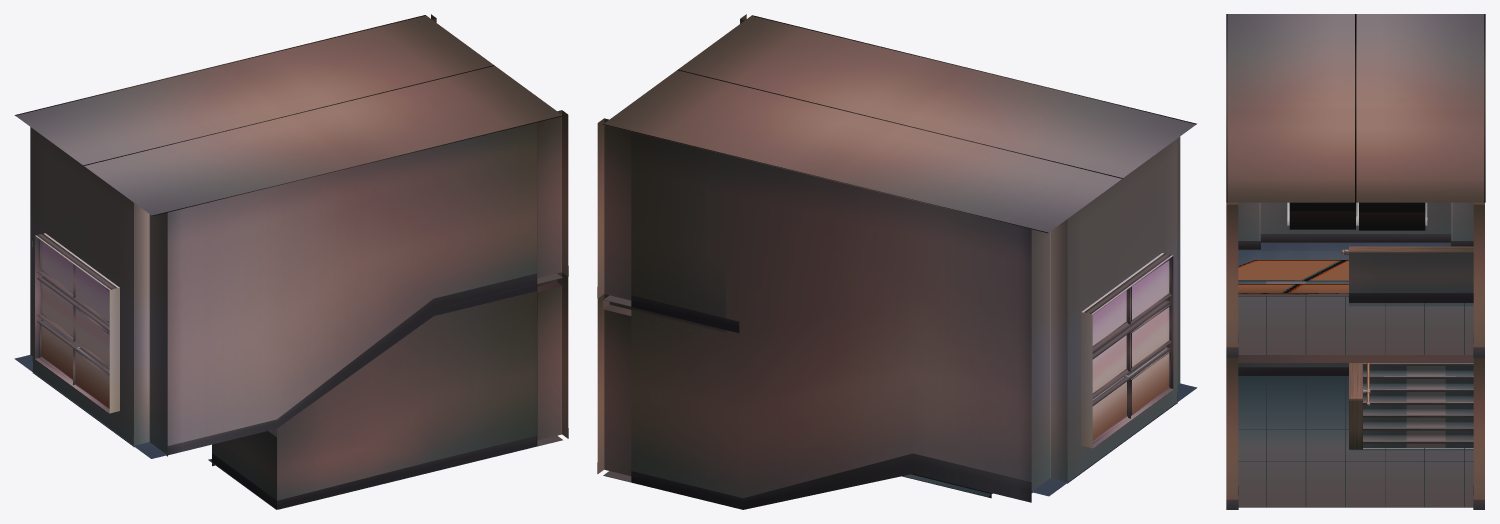
The model's file is JpsStairs_lowfloorB_evening.FBX.
3 views of the same model, side by side, from view 1: azimuth 30°, elevation 25°; view 2: azimuth 150°, elevation 25°; view 3: azimuth 270°, elevation 25° (orthographic). The views are drawn at different scales.
Parts seen in each view (by area): view 1: Sta_LowF_B_wallB_eve, Sta_LowF_B_StairsCeiling_eve, Sta_LowF_B_window_eve, Sta_LowF_B_stairs_eve; view 2: Sta_LowF_B_wallF_eve, Sta_LowF_B_StairsCeiling_eve, Sta_LowF_B_window_eve, Sta_LowF_B_stairs_eve; view 3: Sta_LowF_B_stairs_eve, Sta_LowF_B_StairsCeiling_eve, Sta_LowF_B_window_eve, Sta_LowF_B_wallB_eve, Sta_LowF_B_beam01_add_eve001, Sta_LowF_B_wallF_eve, Sta_LowF_B_spotF_eve, Sta_LowF_B_baseboards_eve.
Part boxes in pixels (x1=…): Sta_LowF_B_wallB_eve: x1=167, y1=110, x2=568, y2=509; Sta_LowF_B_StairsCeiling_eve: x1=14, y1=15, x2=562, y2=216; Sta_LowF_B_window_eve: x1=30, y1=127, x2=167, y2=455; Sta_LowF_B_stairs_eve: x1=14, y1=273, x2=562, y2=509; Sta_LowF_B_wallF_eve: x1=597, y1=118, x2=1031, y2=509; Sta_LowF_B_StairsCeiling_eve: x1=603, y1=15, x2=1196, y2=233; Sta_LowF_B_window_eve: x1=1031, y1=136, x2=1180, y2=491; Sta_LowF_B_stairs_eve: x1=603, y1=295, x2=1197, y2=498; Sta_LowF_B_stairs_eve: x1=1238, y1=242, x2=1473, y2=507; Sta_LowF_B_StairsCeiling_eve: x1=1226, y1=14, x2=1485, y2=202; Sta_LowF_B_window_eve: x1=1238, y1=202, x2=1473, y2=240; Sta_LowF_B_wallB_eve: x1=1226, y1=202, x2=1238, y2=509; Sta_LowF_B_beam01_add_eve001: x1=1289, y1=202, x2=1425, y2=230; Sta_LowF_B_wallF_eve: x1=1473, y1=202, x2=1484, y2=509; Sta_LowF_B_spotF_eve: x1=1238, y1=260, x2=1348, y2=294; Sta_LowF_B_baseboards_eve: x1=1238, y1=234, x2=1473, y2=249.
Size of the model in its own units: 826 by 607 by 463.
